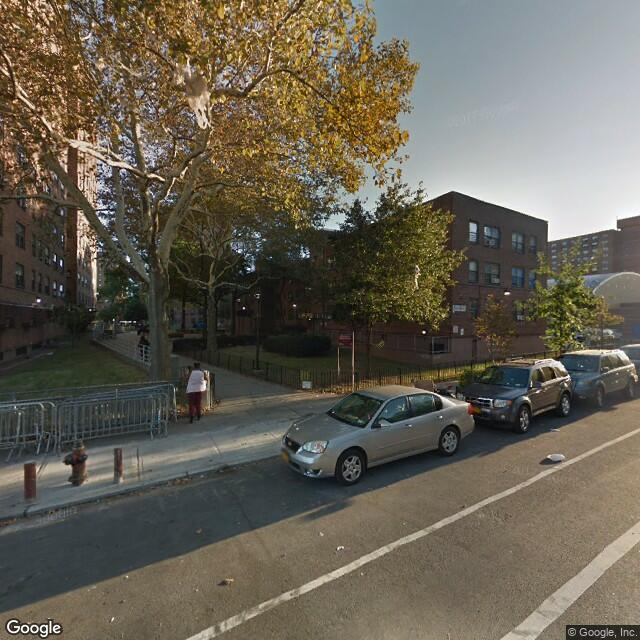litter: (543, 452, 569, 464), (317, 528, 328, 538), (334, 542, 347, 550), (549, 426, 561, 432), (107, 615, 116, 623)
